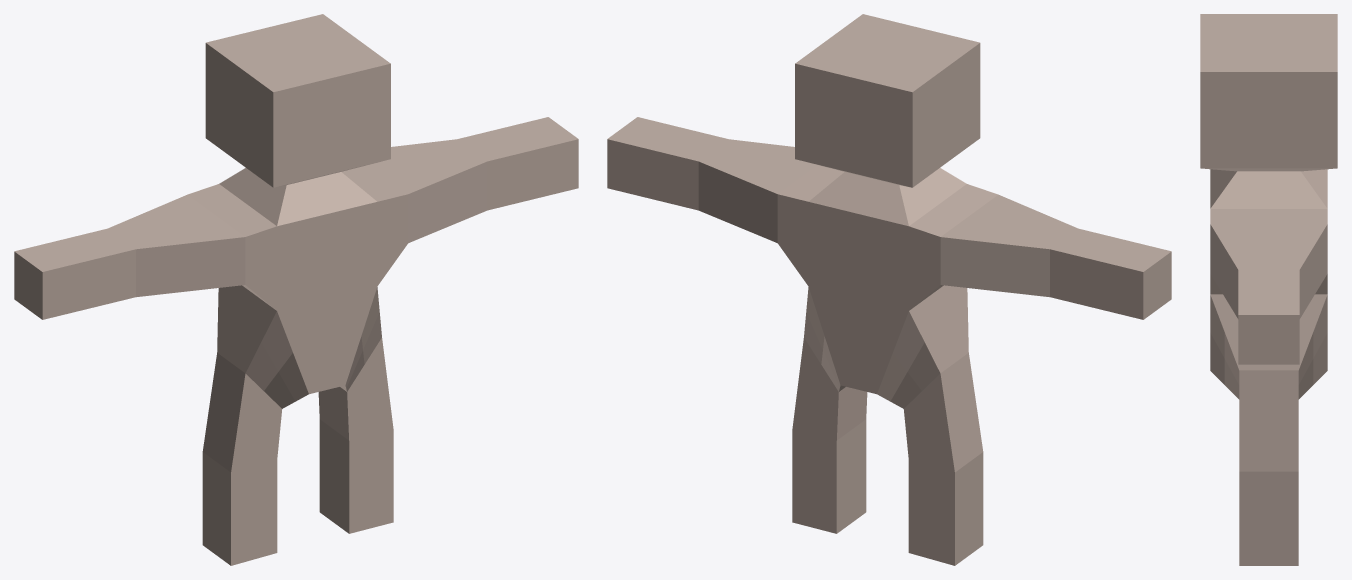
File: boxman.obj
3 views of the same model, side by side, from view 1: azimuth 30°, elevation 25°; view 2: azimuth 150°, elevation 25°; view 3: azimuth 270°, elevation 25° (orthographic).
Parts seen in each view (by area): view 1: Cube; view 2: Cube; view 3: Cube.
Part boxes in pixels (x1,y1,x2,y2): Cube: [14, 14, 578, 565]; Cube: [607, 14, 1171, 565]; Cube: [1200, 14, 1337, 565].
Size of the model in its own units: 10.66 by 9.18 by 2.34.
